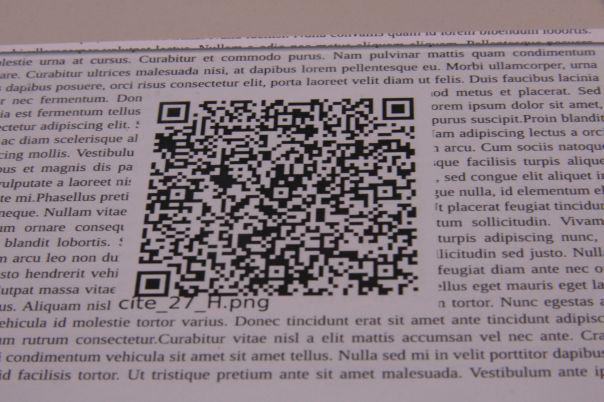qr_code: (134, 97, 420, 298)
